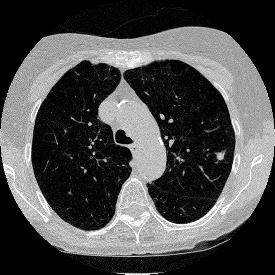nodule: (217, 152, 225, 160)
